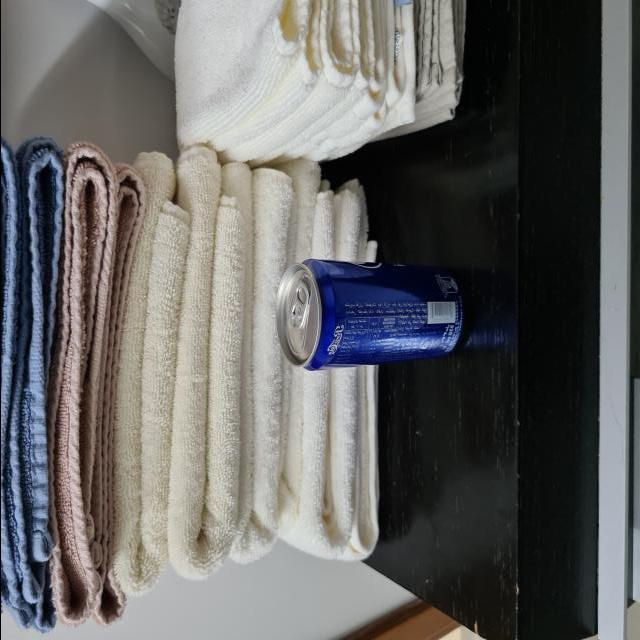can: (273, 260, 469, 372)
